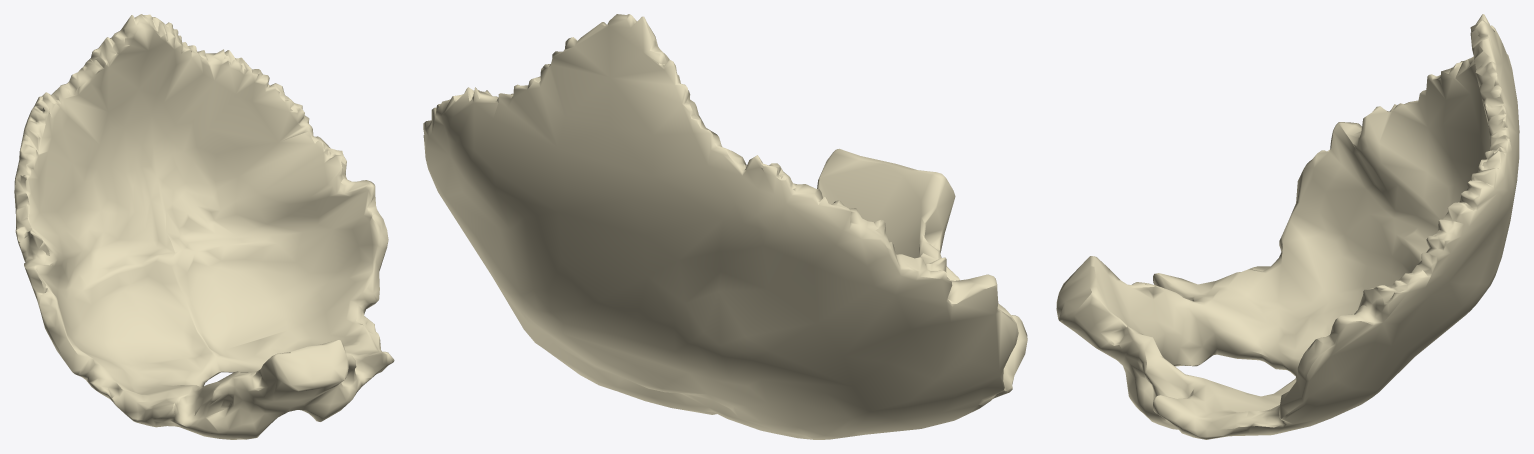
File: occipital_bone.glb
3 renders of one model, left to right at view 1: azimuth 30°, elevation 25°; view 2: azimuth 150°, elevation 25°; view 3: azimuth 270°, elevation 25°, orthographic. The views are drawn at different scales.
Visible parts, largest first — view 1: occipital bone; view 2: occipital bone; view 3: occipital bone.
Part boxes in pixels (x1=…): occipital bone: x1=14, y1=14, x2=394, y2=439; occipital bone: x1=423, y1=14, x2=1027, y2=439; occipital bone: x1=1056, y1=14, x2=1519, y2=439.
Size of the model in its own units: 0.1227 by 0.1067 by 0.119.
